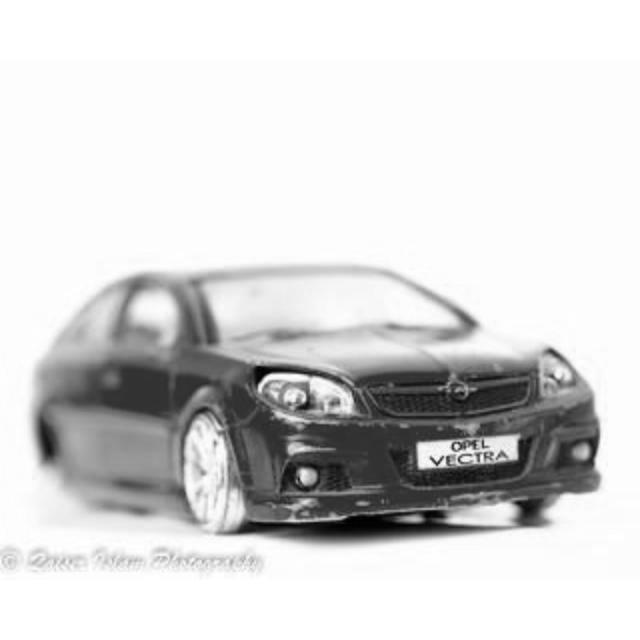front-bumper-dent: (234, 394, 610, 520)
